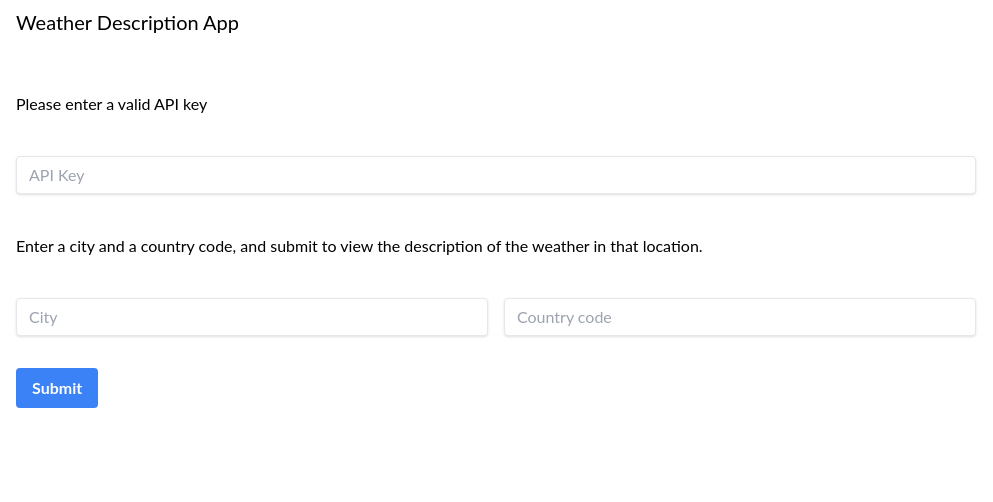
Test: Home page unit tests › should display prompt user to enter an api key when the api key input field is empty
This screenshot has width=993, height=502.
Click the button "Submit".
click(57, 388)  # box x1=16 y1=368 x2=98 y2=408
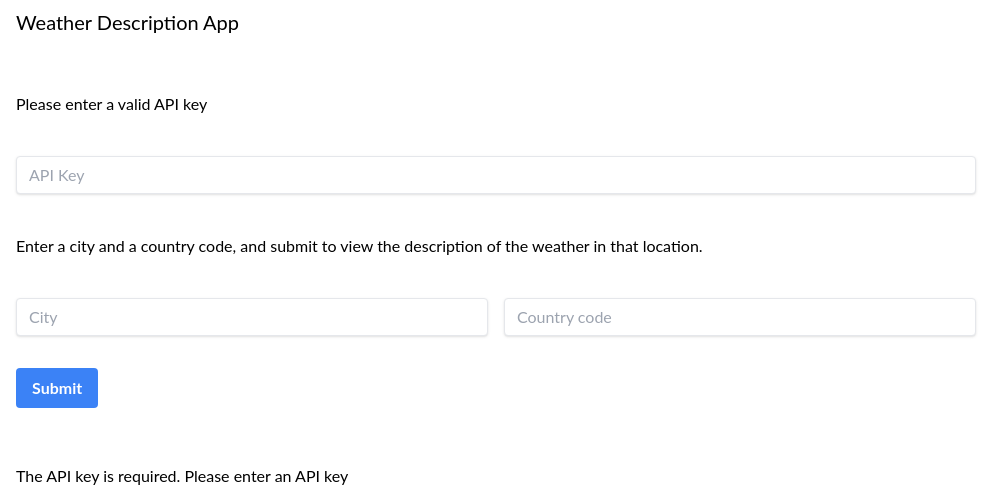
Now the text "The API key is required. Please enter an API key" is shown, box x1=16 y1=466 x2=348 y2=485
